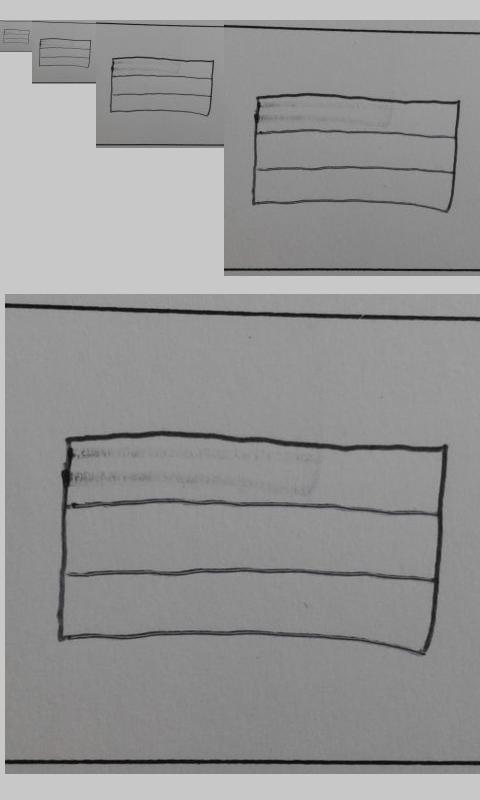list_view: (57, 428, 451, 661), (251, 91, 462, 215), (109, 56, 215, 117), (38, 37, 92, 69), (2, 28, 31, 45)
